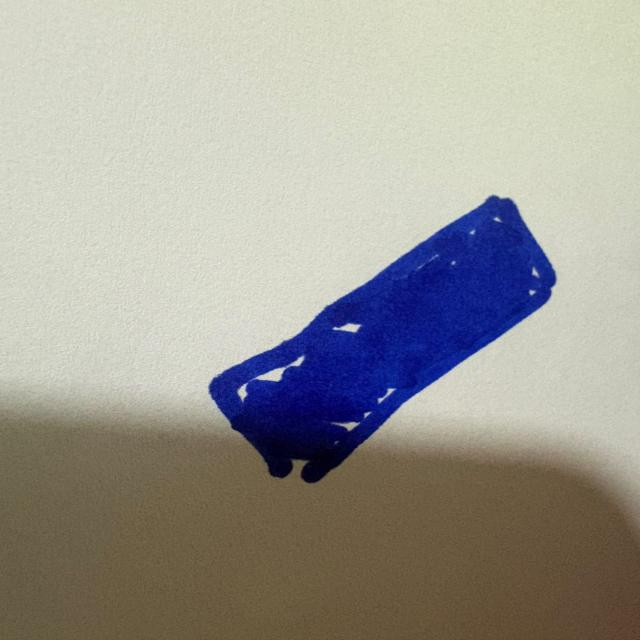Rectangle: (205, 189, 563, 487)
